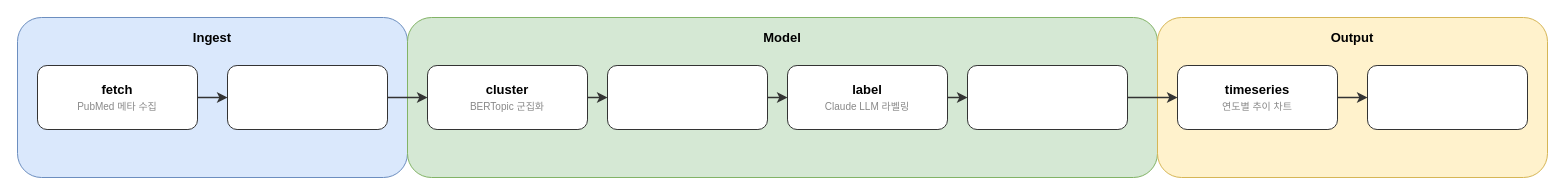
Image size: 1565x195. Some labels were removed from this diagram. Each missing label, with the centre of its shape:
"embed SPubMedBERT 임베딩" goes at (307,97).
"enrich 토픽 키워드 4열 비교" goes at (687,97).
"label-relevance 관련도 순위 랭킹" goes at (1047,97).
"report HTML 종합 리포트" goes at (1447,97).
